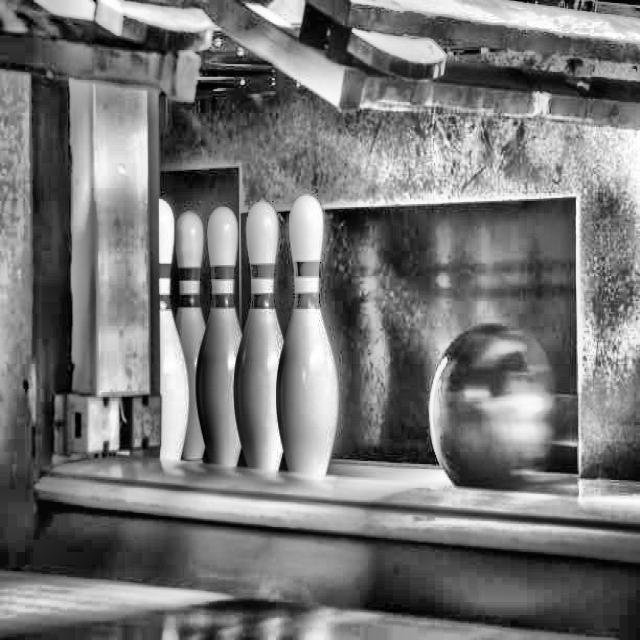bowling-ball: (432, 325, 557, 490)
bowling-pins: (277, 195, 339, 478), (235, 201, 284, 473), (197, 207, 243, 467), (159, 199, 189, 462), (176, 210, 206, 460)
